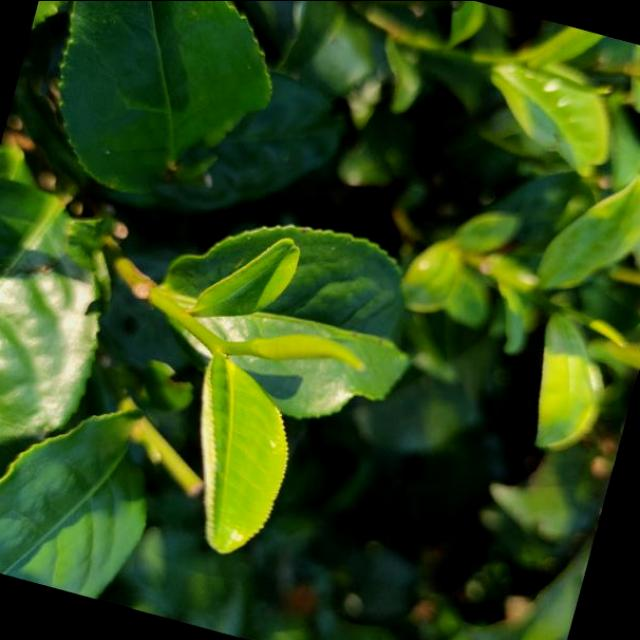Stem: (199, 330, 223, 353)
